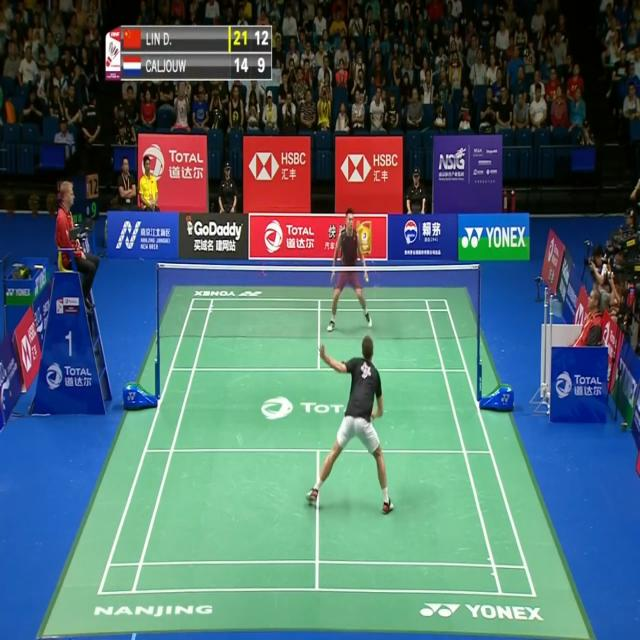Player1: (305, 330, 399, 524)
Player2: (324, 204, 377, 344)
